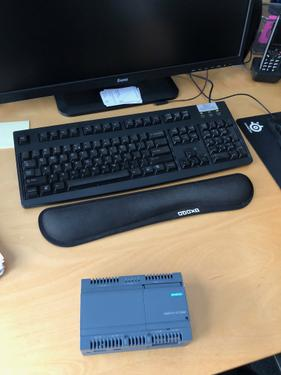device: (80, 273, 193, 357)
